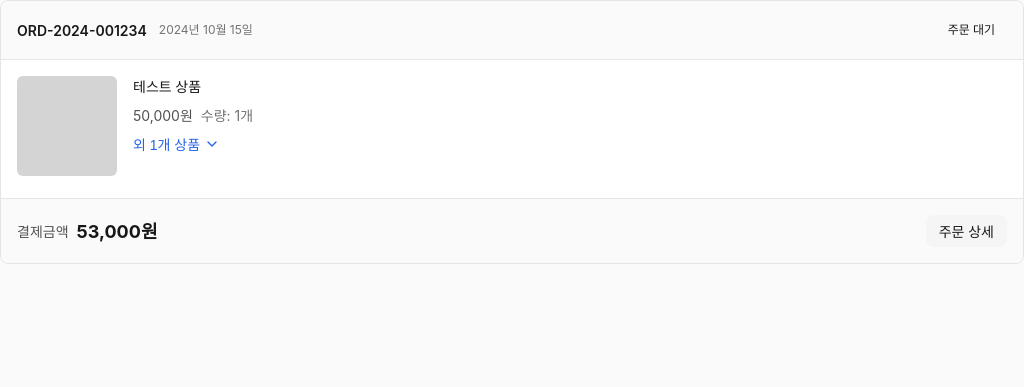
Test: OrderCard › expand/collapse for multiple items › should expand to show additional items when clicked
This screenshot has width=1024, height=387.
// Initially second item is hidden (not fully visible)
Click the button "외 1개 상품" at (177, 144), box [133, 134, 220, 154]
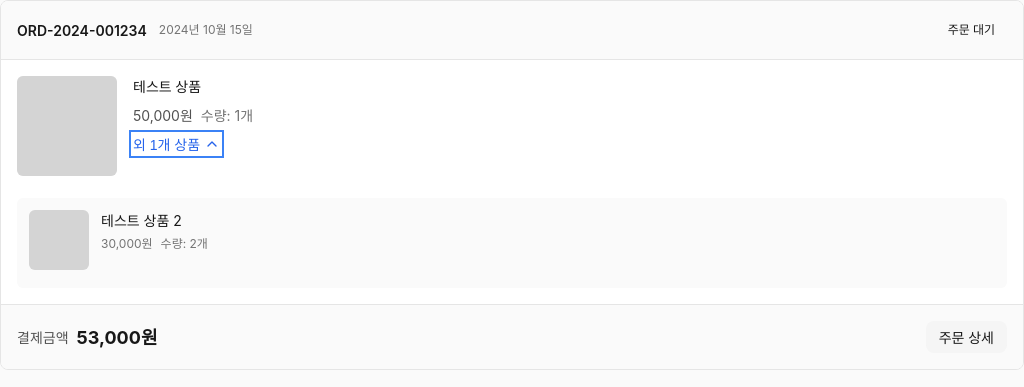
Expected: the link "테스트 상품 2" is shown, [101, 212, 182, 229]
